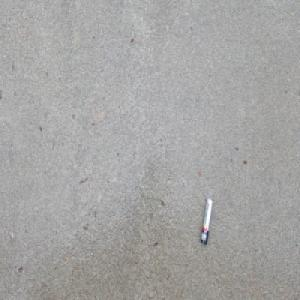Battery: (199, 196, 213, 245)
